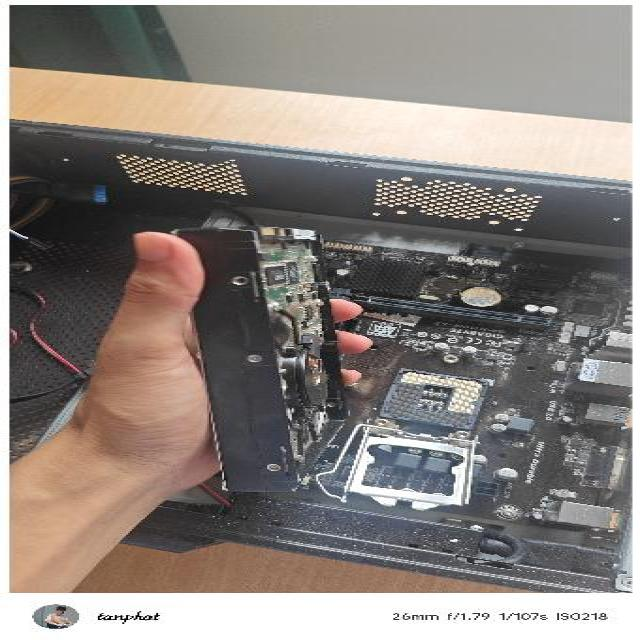DISK: (157, 219, 387, 496)
